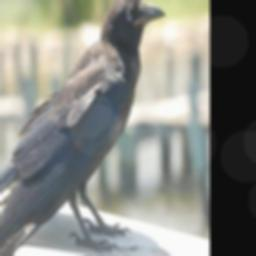Crow: (0, 0, 167, 256)
